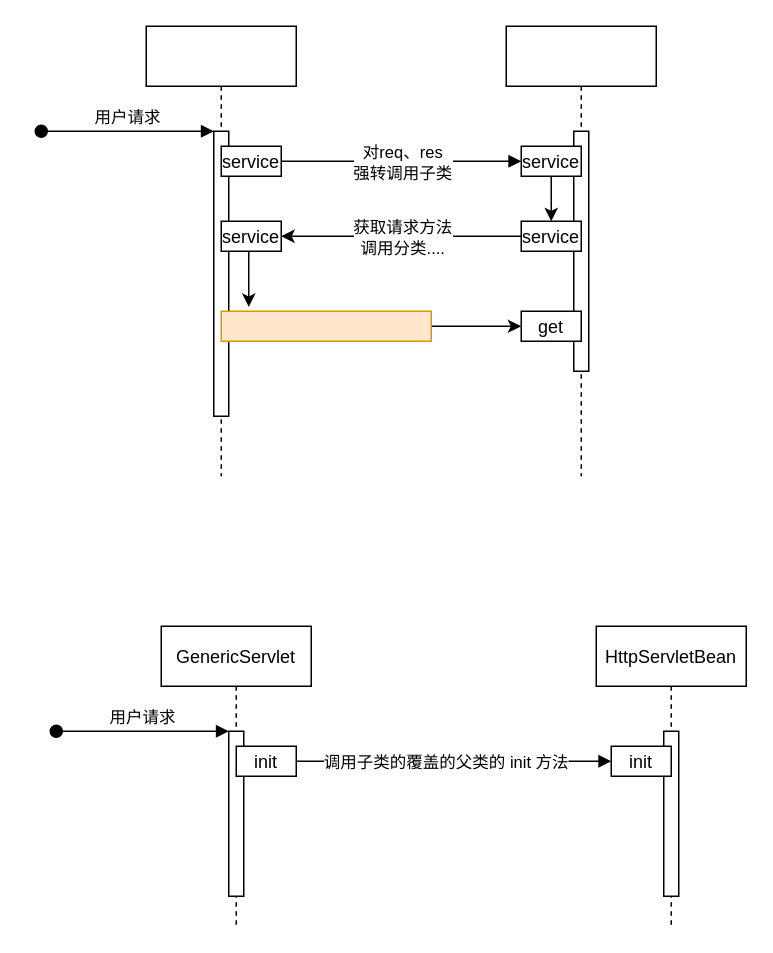
Image size: 773x953. Some labels were removed from this diagram. The box of each missing label's shape, as (x1, y1, x2, y2) in pixels:
FrameworkServlet: (505, 25, 656, 476)
HttpServlet: (145, 25, 296, 476)
根据类型调用不同的 方法: (220, 310, 431, 341)
